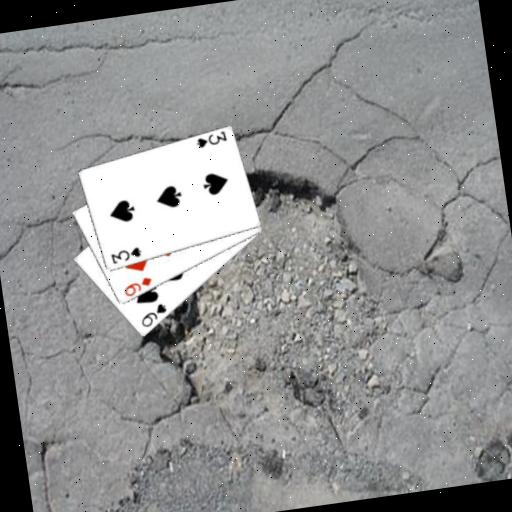3S: (192, 128, 229, 151), (107, 244, 143, 267)
9D: (119, 274, 155, 300)
9S: (136, 299, 171, 330)
